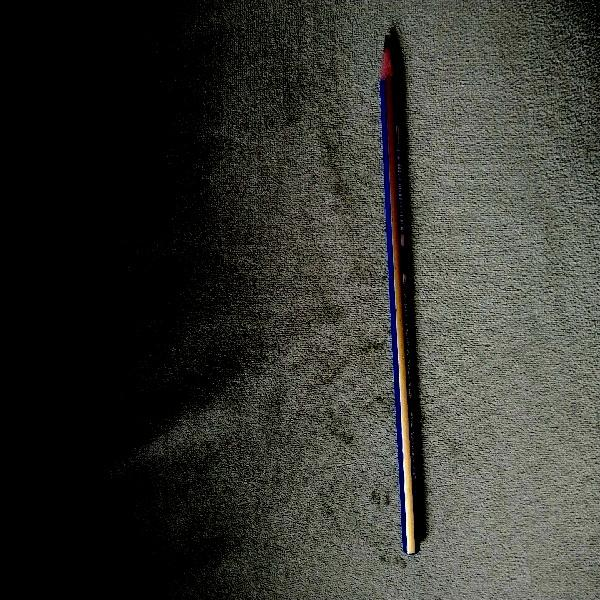pencil: (371, 42, 424, 555)
